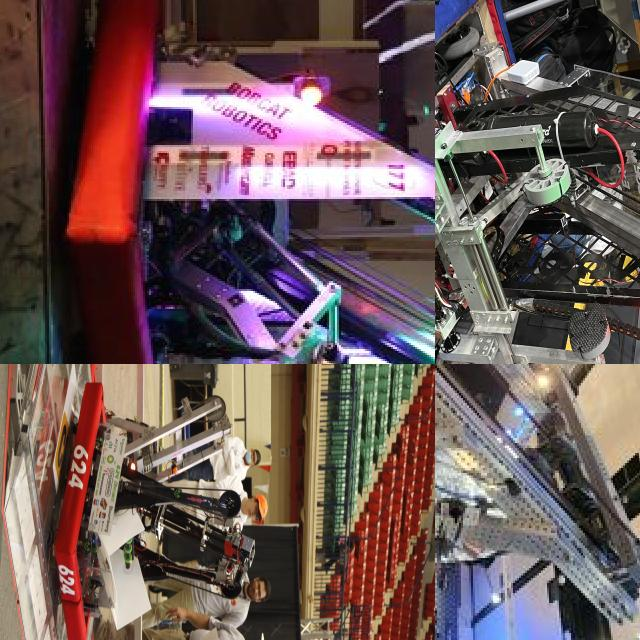FRC-Robots: (76, 0, 435, 364), (435, 0, 640, 364), (435, 364, 640, 631), (41, 388, 245, 640)
